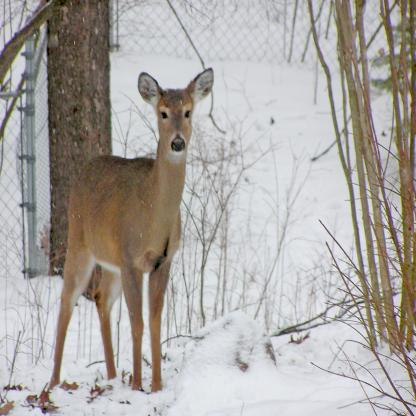Deer: (46, 69, 213, 393)
